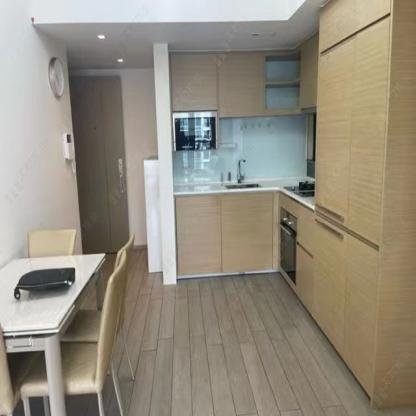Cupboard: (169, 0, 392, 250), (174, 188, 380, 401)
Faucet: (235, 156, 246, 182)
Microwave: (172, 110, 218, 152)
Oven: (278, 207, 297, 292)
Sink: (224, 182, 262, 189)
Stove: (283, 182, 314, 199)
